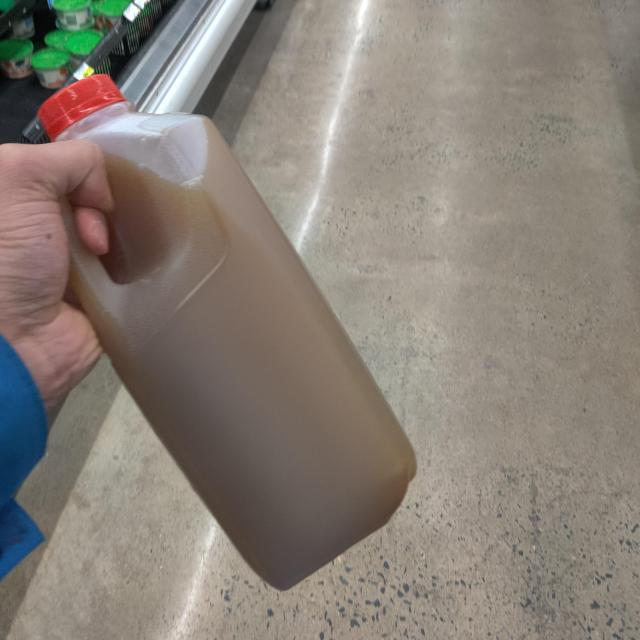Juice: (41, 75, 421, 591)
